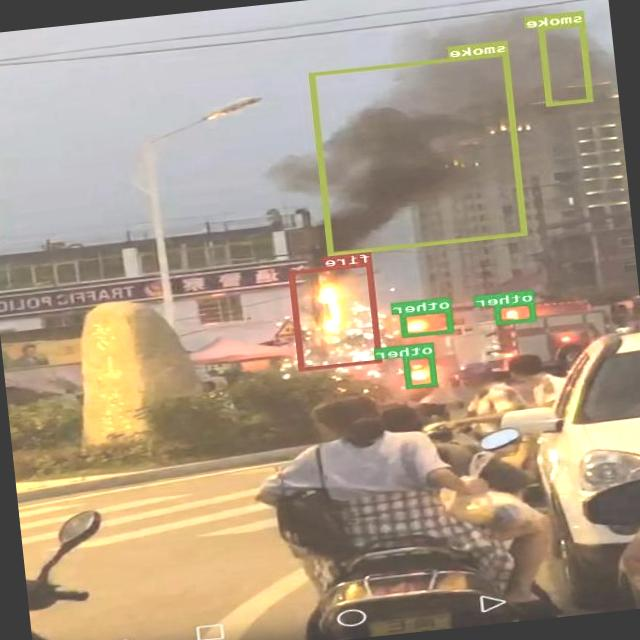fire: (290, 261, 384, 370)
smoke: (310, 51, 528, 255), (540, 22, 594, 105)
